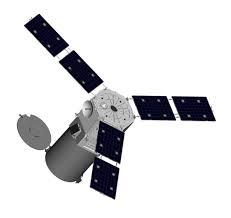antenna: (13, 111, 53, 152), (81, 98, 95, 120)
body: (43, 84, 137, 185)
solar: (22, 11, 105, 95), (87, 118, 127, 202), (130, 93, 219, 124)
